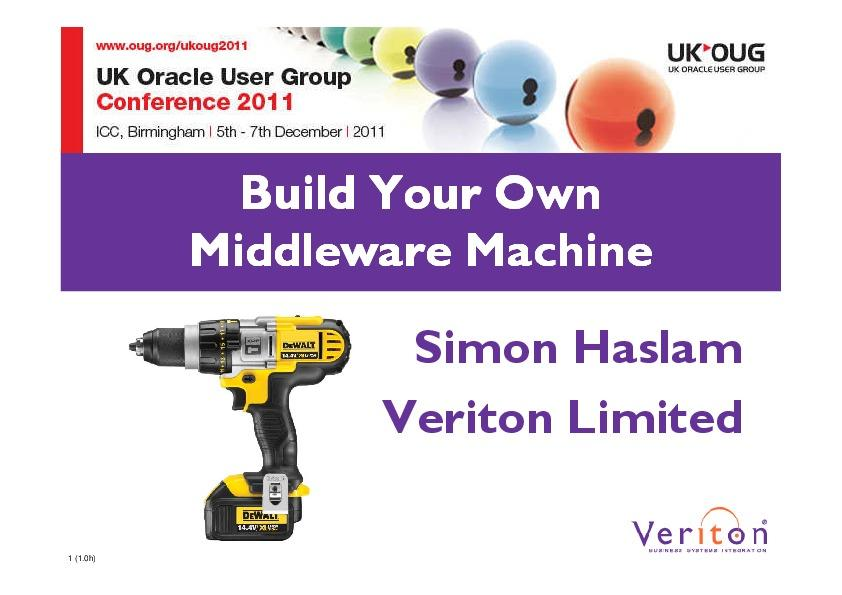title: (180, 164, 659, 278)
